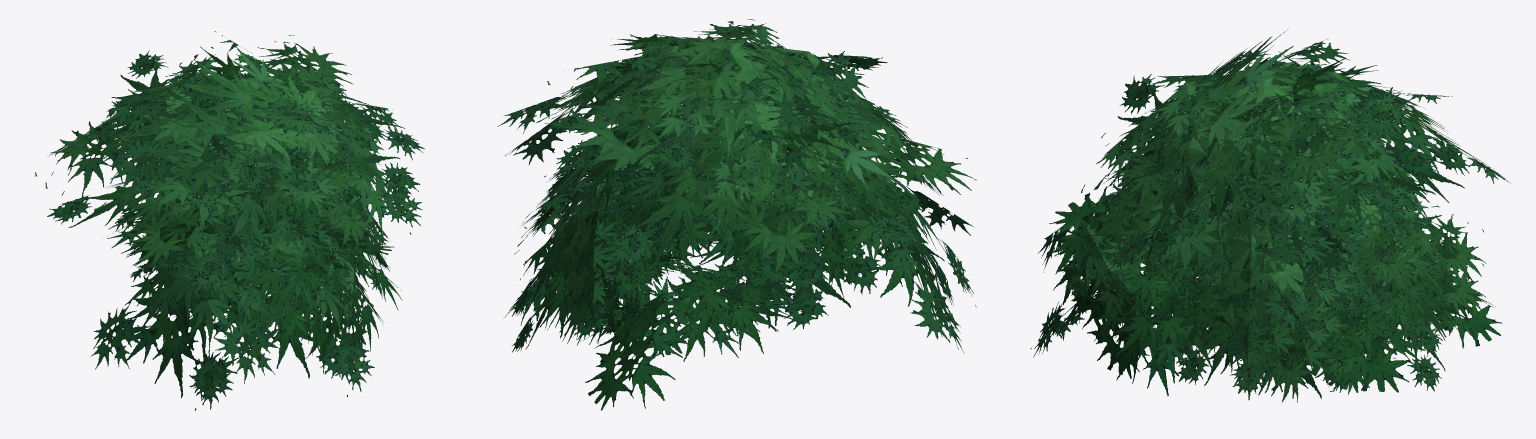
Rendered from Area_13_23.fbx.
The picture shows the model from 3 angles, left to right: view 1: azimuth 30°, elevation 25°; view 2: azimuth 150°, elevation 25°; view 3: azimuth 270°, elevation 25°; orthographic projection. The views are drawn at different scales.
Parts seen in each view (by area): view 1: Area_13_23; view 2: Area_13_23; view 3: Area_13_23.
Part boxes in pixels (bbox=[...]): Area_13_23: bbox=[35, 31, 424, 410]; Area_13_23: bbox=[497, 19, 976, 410]; Area_13_23: bbox=[1030, 28, 1509, 402].
Bounding box in the file's own units: 378 × 297 × 388.
